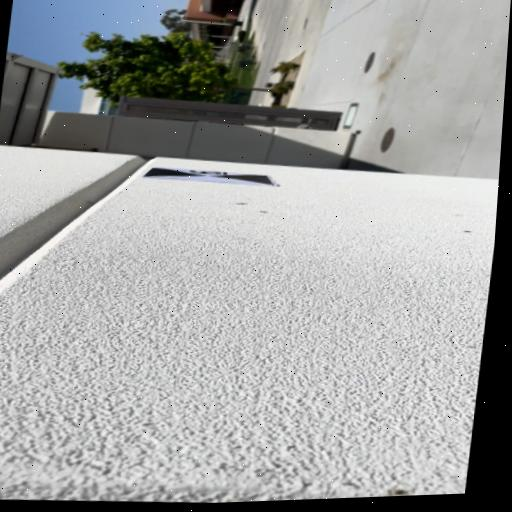target6: (141, 166, 279, 186)
